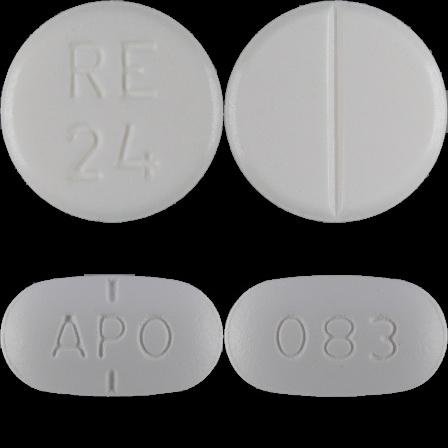53808-0998: (0, 0, 224, 224)
